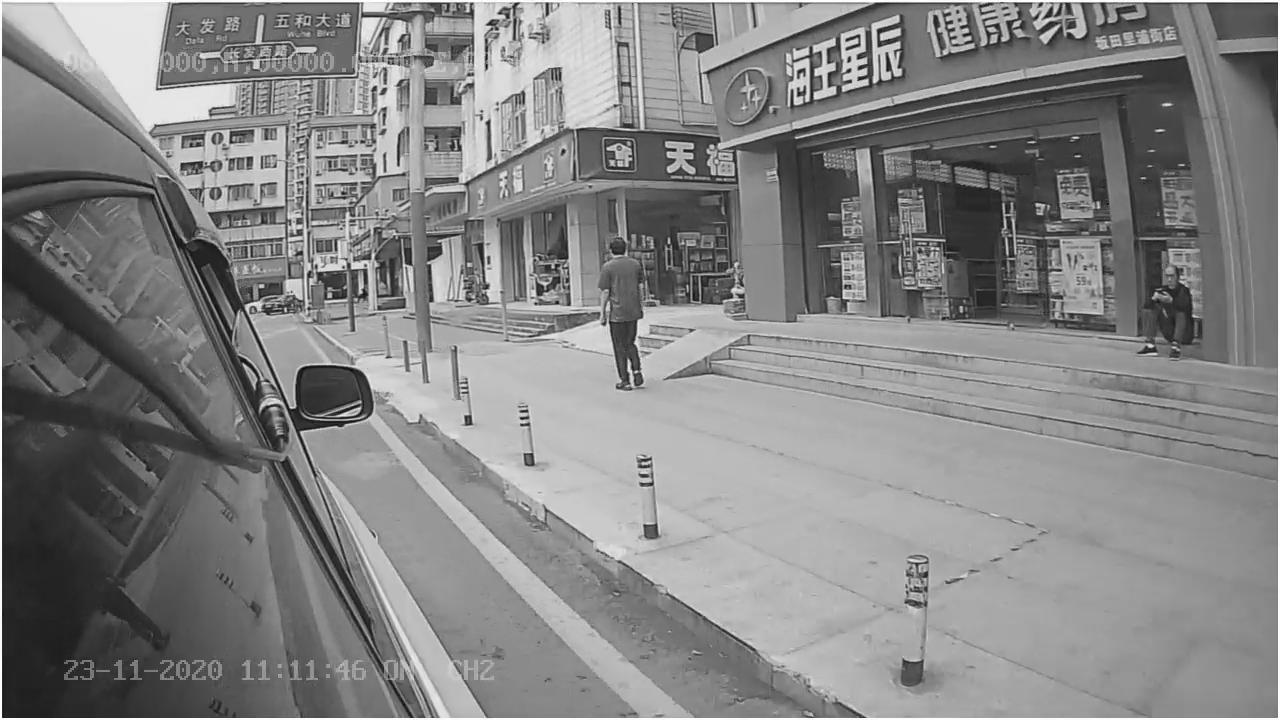person: (590, 232, 662, 392)
